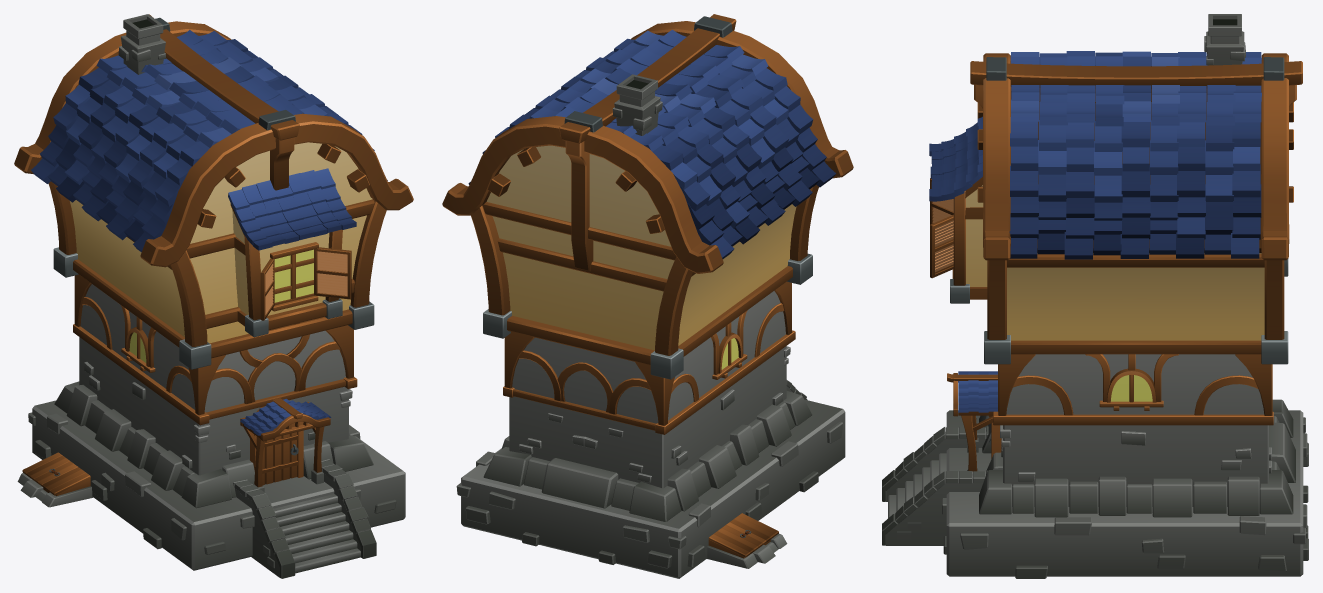
File: Est-Medi-1.fbx
3 renders of one model, left to right at view 1: azimuth 30°, elevation 25°; view 2: azimuth 150°, elevation 25°; view 3: azimuth 270°, elevation 25°, orthographic. The views are drawn at different scales.
Visible parts, largest first — view 1: Est-Medi-1; view 2: Est-Medi-1; view 3: Est-Medi-1.
Part boxes in pixels (x1,y1,x2,y2): Est-Medi-1: [14, 14, 413, 578]; Est-Medi-1: [442, 14, 853, 578]; Est-Medi-1: [882, 14, 1308, 578].
Bounding box in the file's own units: 1192 × 1751 × 1400.
